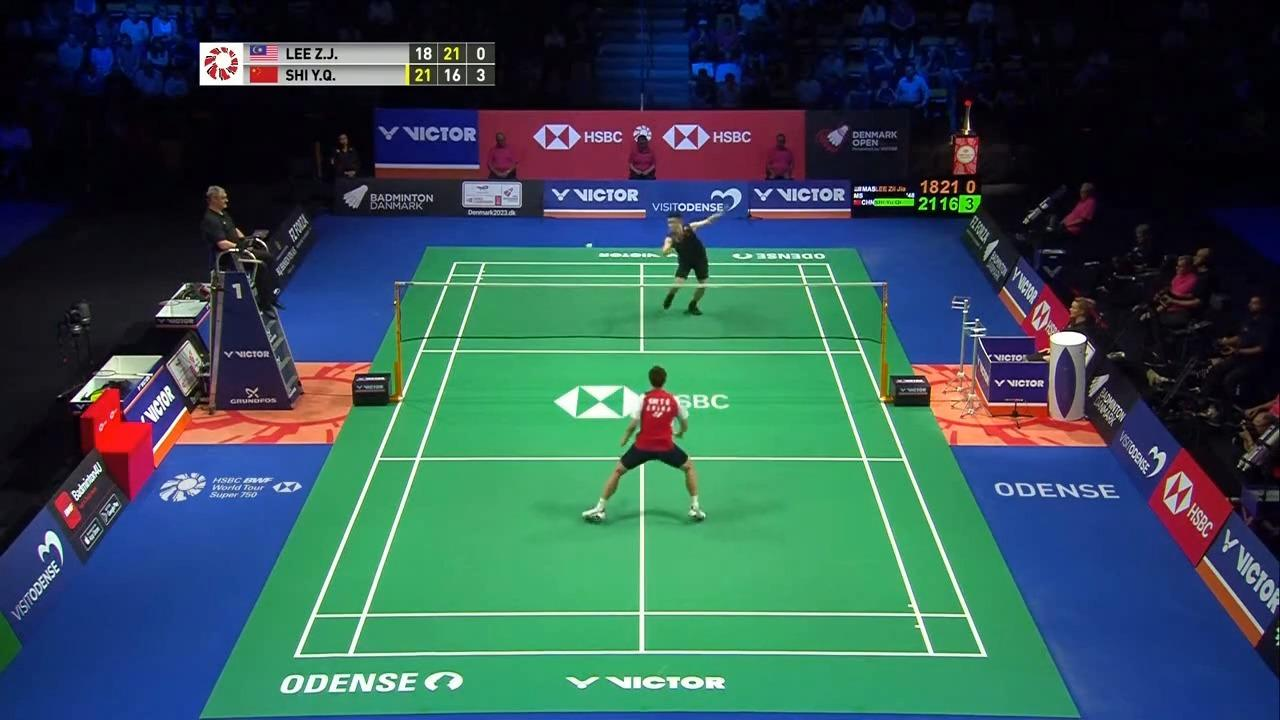shuttle: (585, 239, 595, 250)
